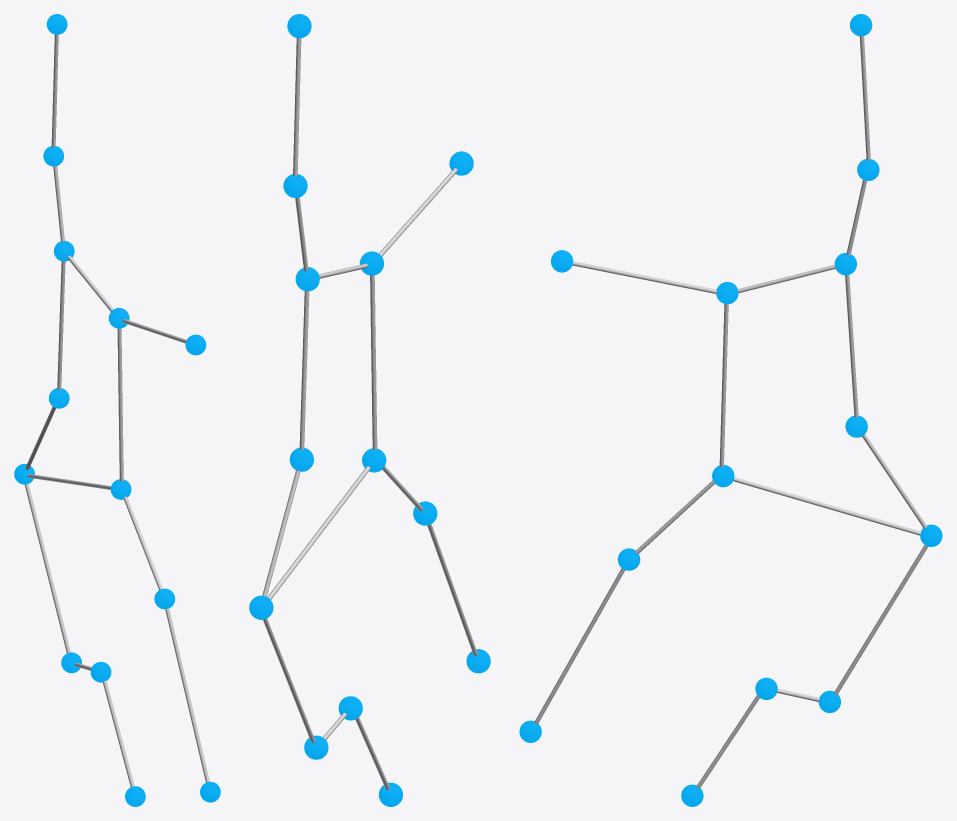
Rendered from Kanya.glb.
3 views of the same model, side by side, from view 1: azimuth 30°, elevation 25°; view 2: azimuth 150°, elevation 25°; view 3: azimuth 270°, elevation 25° (orthographic). The views are drawn at different scales.
Parts seen in each view (by area): view 1: Extra.001; view 2: Extra.001; view 3: Extra.001.
Boxes of the visible parts, x1,y1,x2,y2 form: Extra.001: (14, 14, 220, 806); Extra.001: (249, 14, 490, 806); Extra.001: (519, 14, 942, 806).
Size of the model in its own units: 0.1011 by 3.93 by 1.9.
